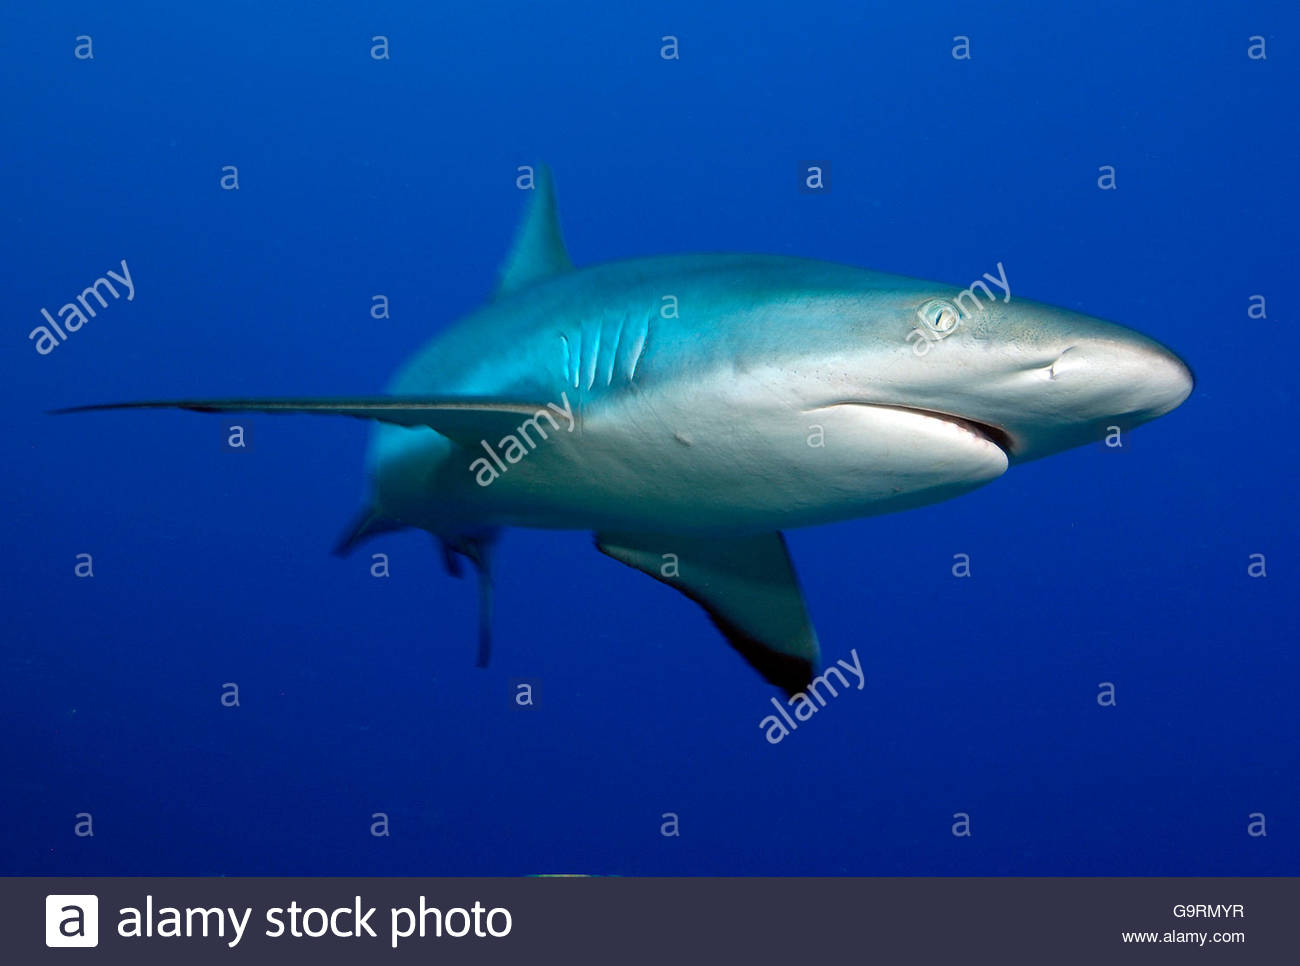Carcharhinus_amblyrhynchos: (39, 149, 1221, 710)
